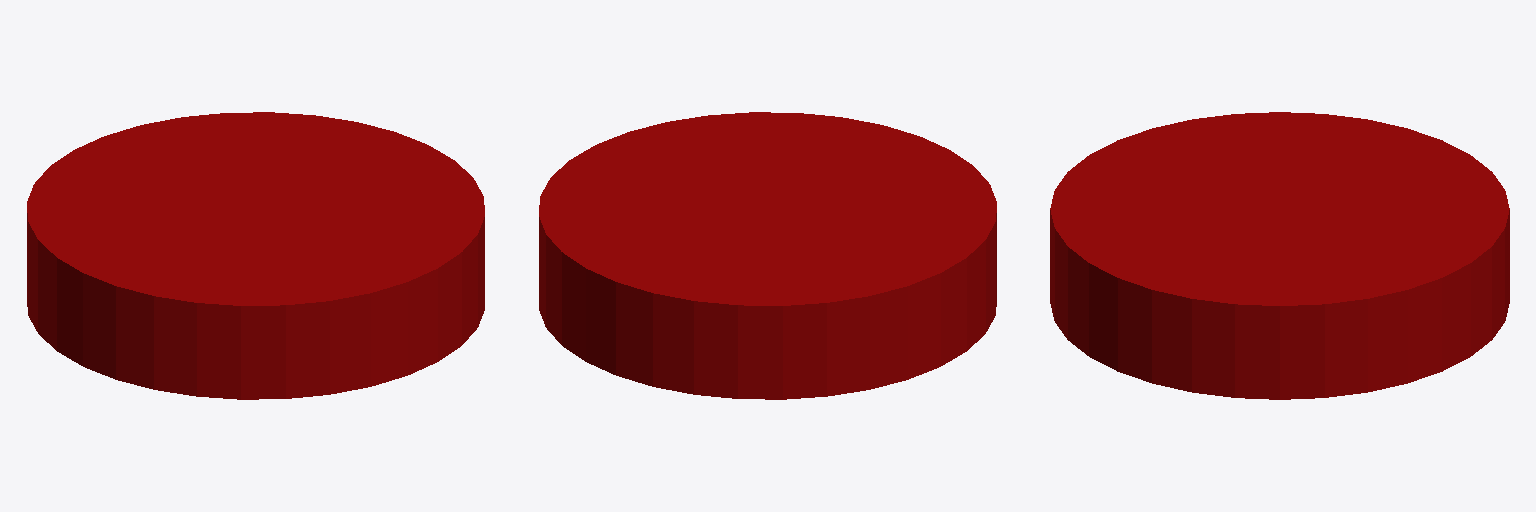
Rendered from stick.obj.
The picture shows the model from 3 angles: view 1: azimuth 30°, elevation 25°; view 2: azimuth 150°, elevation 25°; view 3: azimuth 270°, elevation 25°; orthographic projection.
Visible parts, largest first — view 1: Cylinder; view 2: Cylinder; view 3: Cylinder.
Part boxes in pixels (bbox=[...]): Cylinder: bbox=[27, 112, 484, 399]; Cylinder: bbox=[539, 112, 996, 399]; Cylinder: bbox=[1050, 112, 1509, 399].
Bounding box in the file's own units: 0.4 × 0.09 × 0.4.